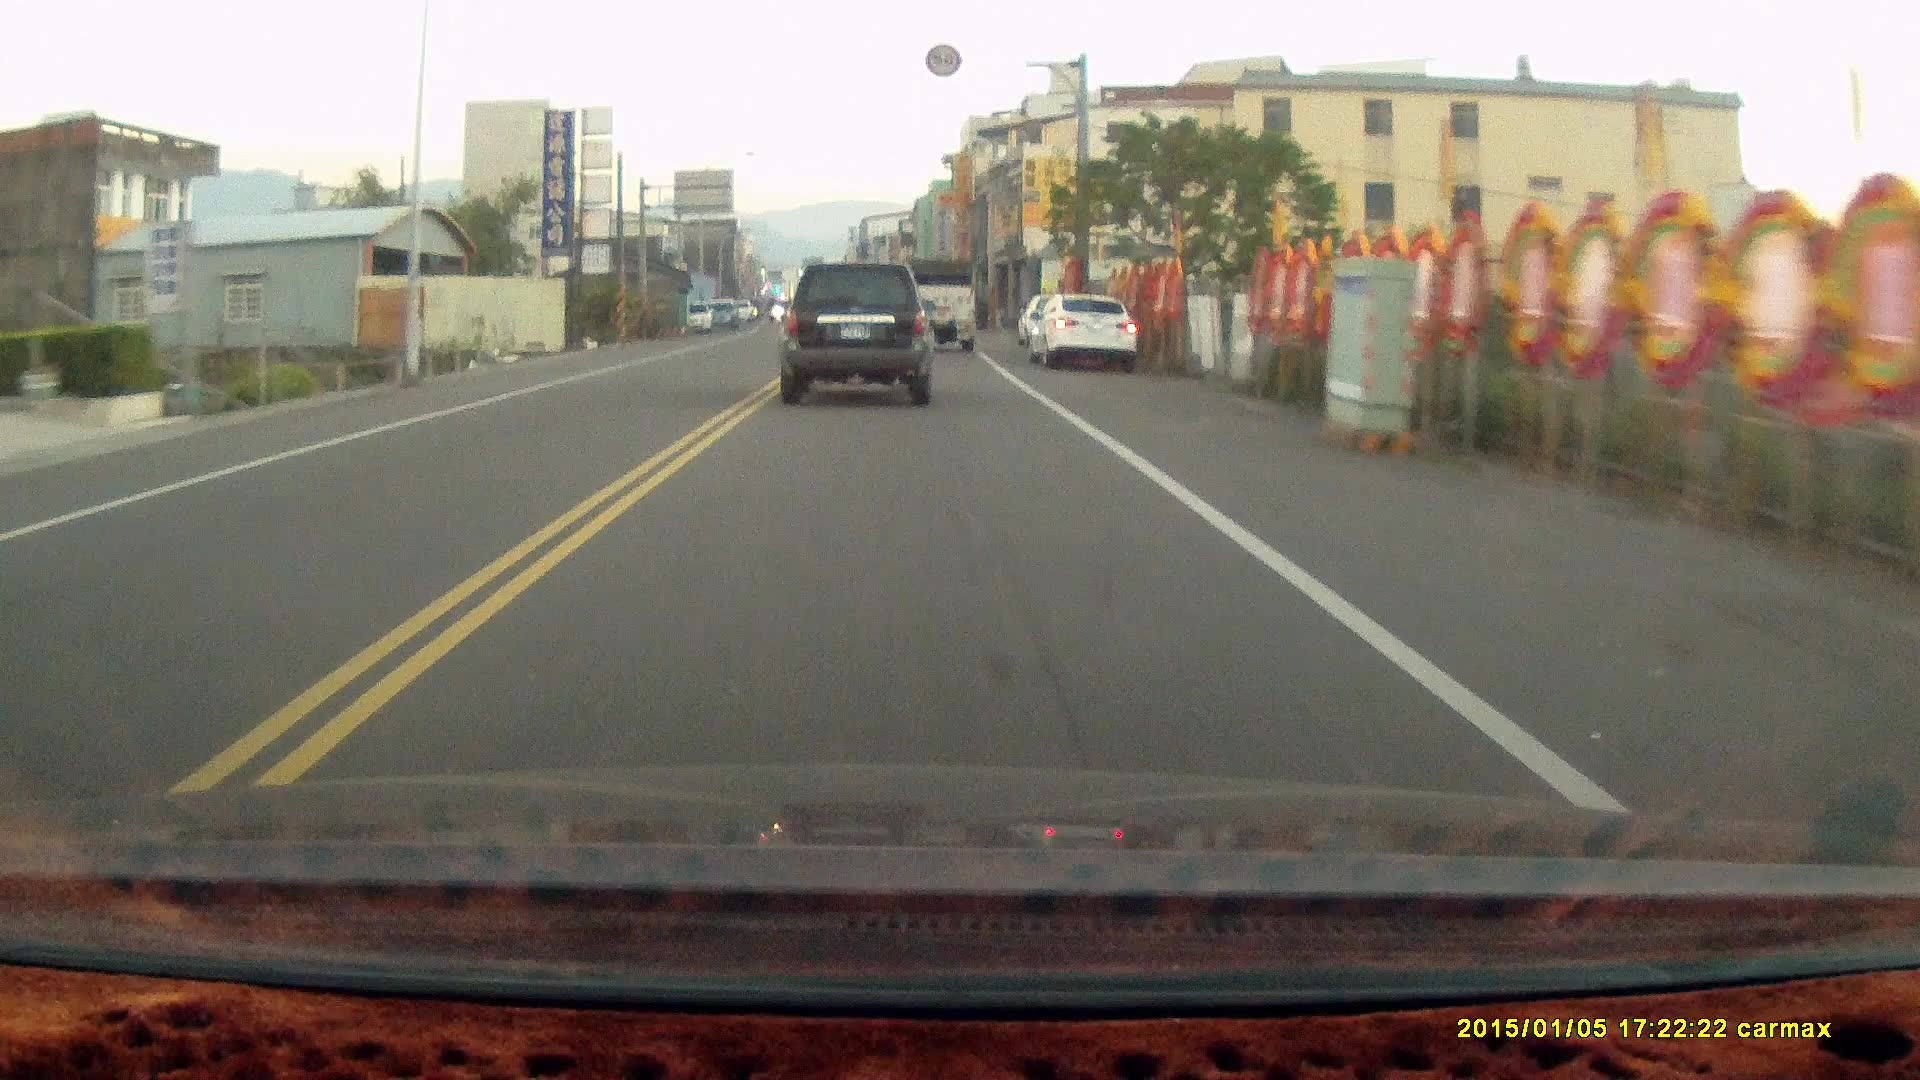vehicle: (778, 258, 936, 406), (1030, 294, 1141, 377), (902, 258, 982, 353)
